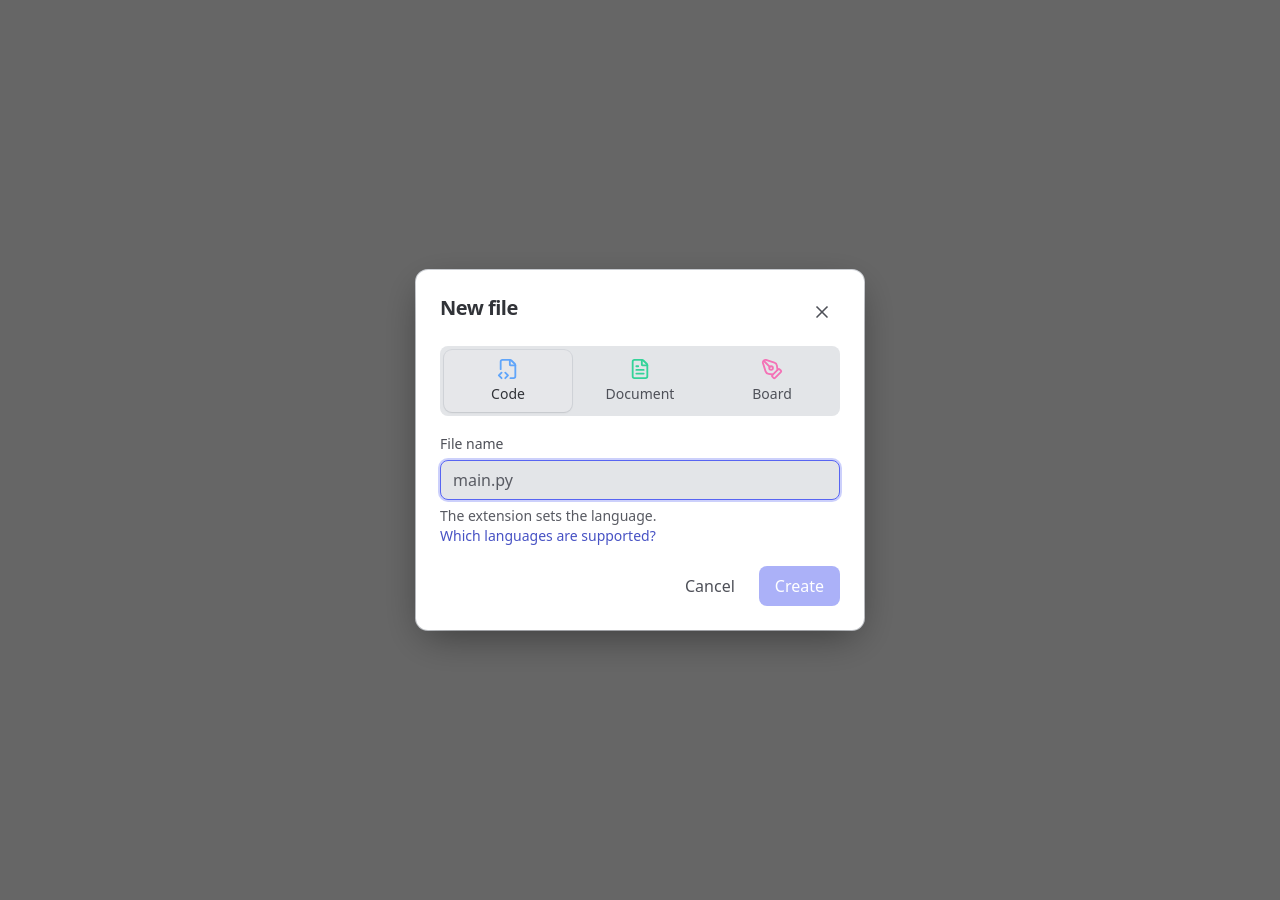
Test case: CreateFileDialog › stays open and shows the server's message when creating fails
This screenshot has width=1280, height=900.
Type "extra.py" into the field labelled "File name" at (640, 480), box [440,460,840,500]
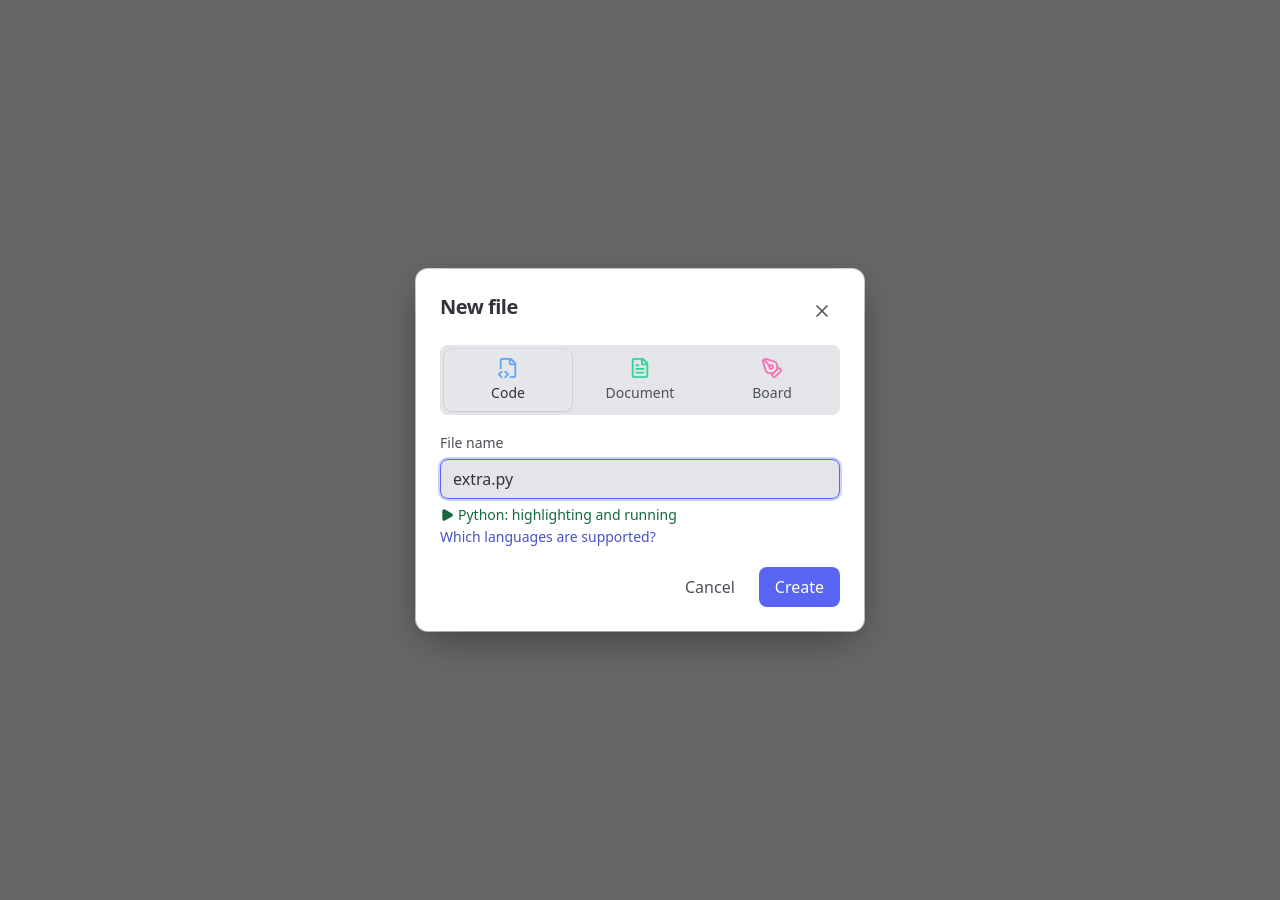
Click the button "Create" at (799, 587), box [759,567,840,607]
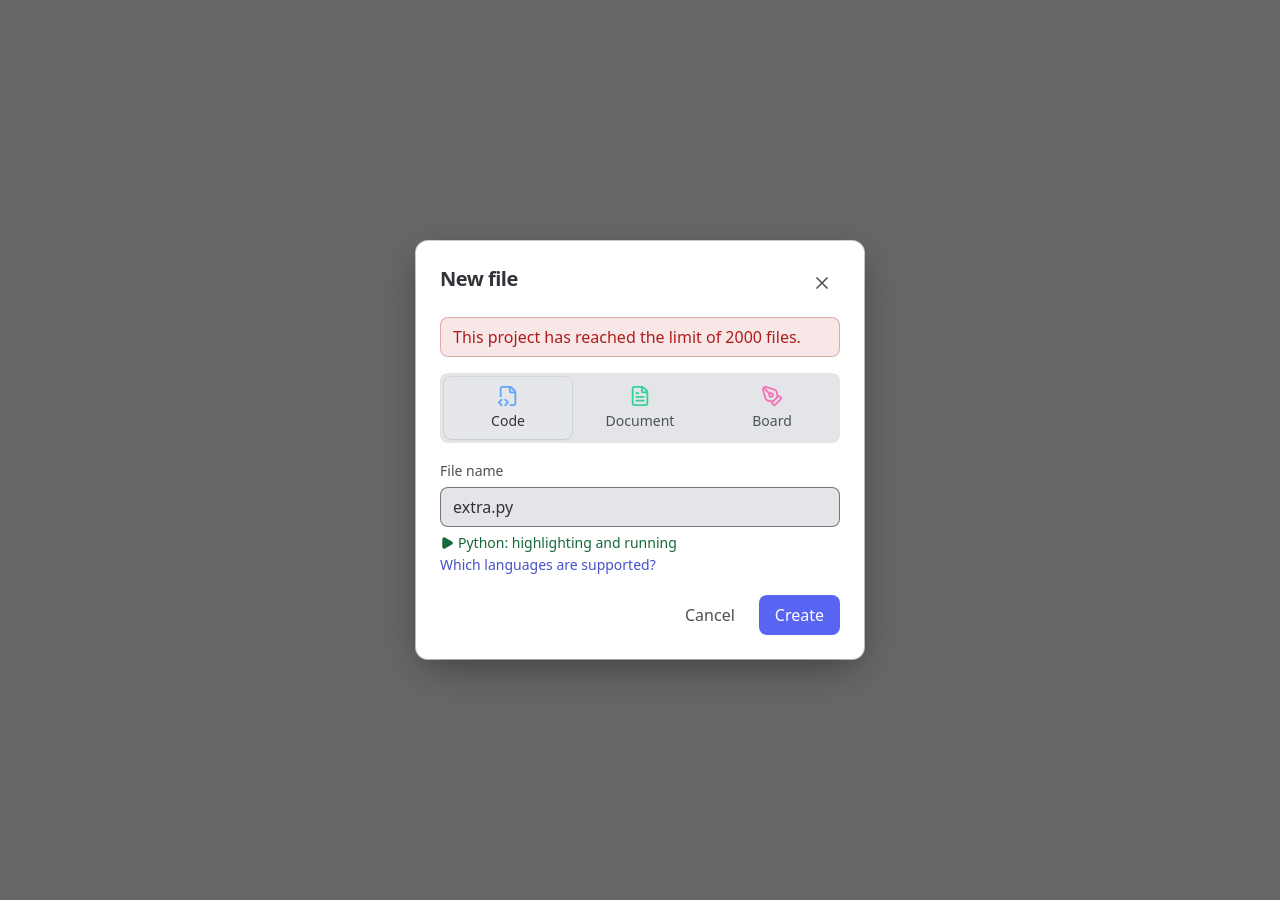
Result: the message "This project has reached the limit of 2000 files." is shown at [440,317,840,357]
